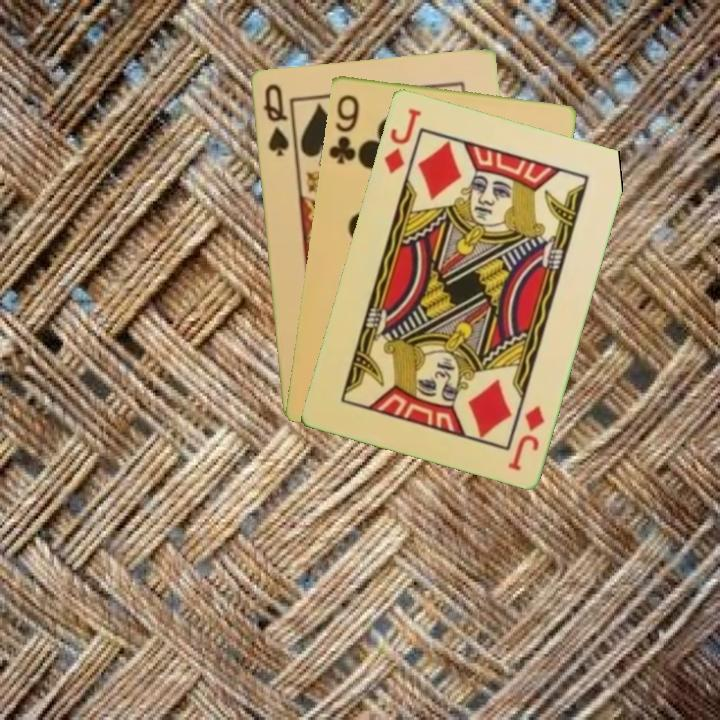9c: (325, 90, 362, 167)
Jd: (380, 104, 424, 177), (504, 402, 547, 474)
Qs: (259, 80, 292, 159)
